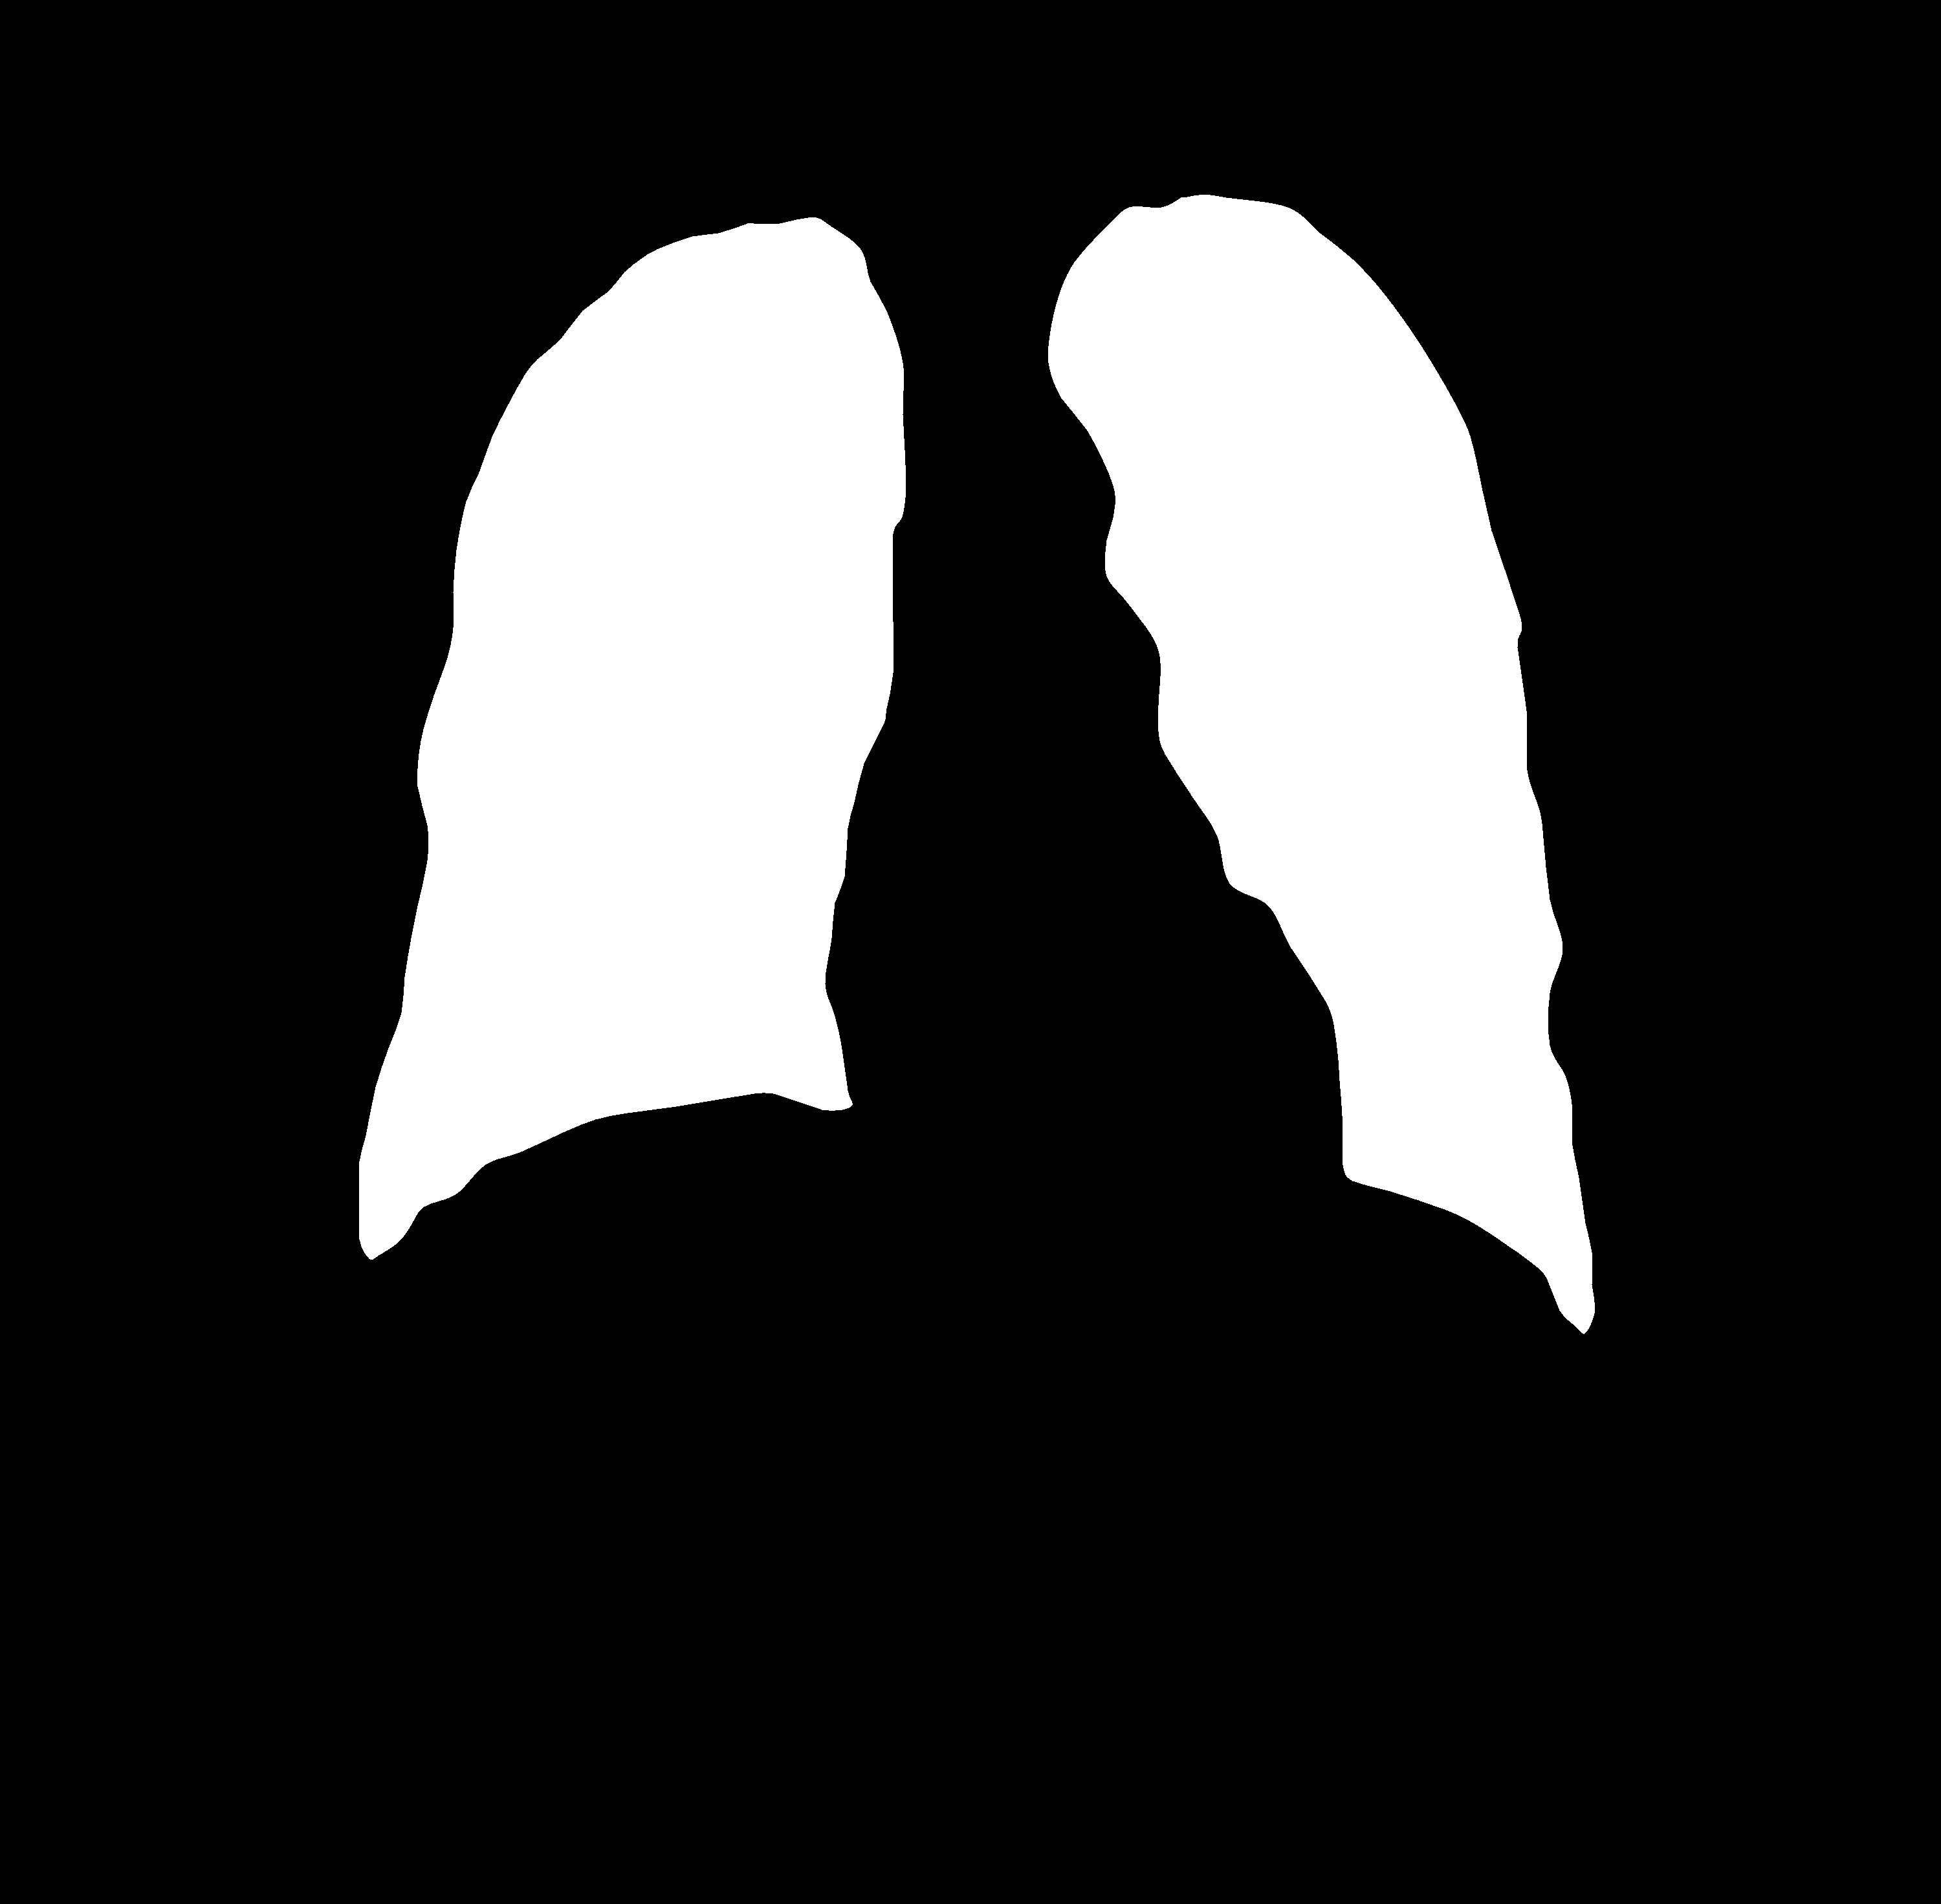heart: (816, 807, 1362, 1212)
left_lung: (359, 218, 905, 1259)
right_lung: (1048, 195, 1596, 1334)
